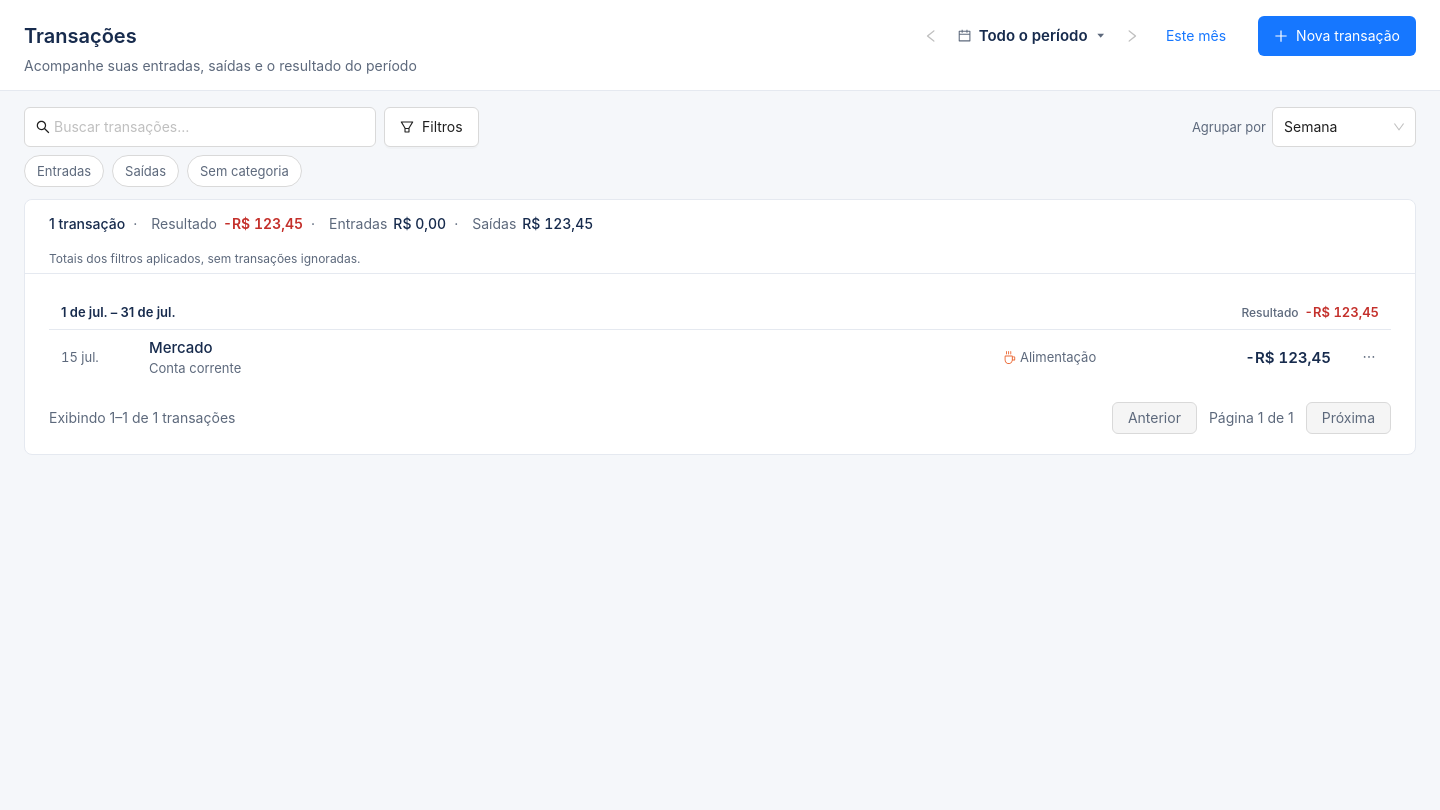
Test case: TransactionsPage › says the recurrence lookup failed instead of 'no recurrence nearby', and offers a retry
This screenshot has width=1440, height=810.
Click the button with aria-label "Ver detalhes de Mercado": (181, 347) [149,338,987,358]
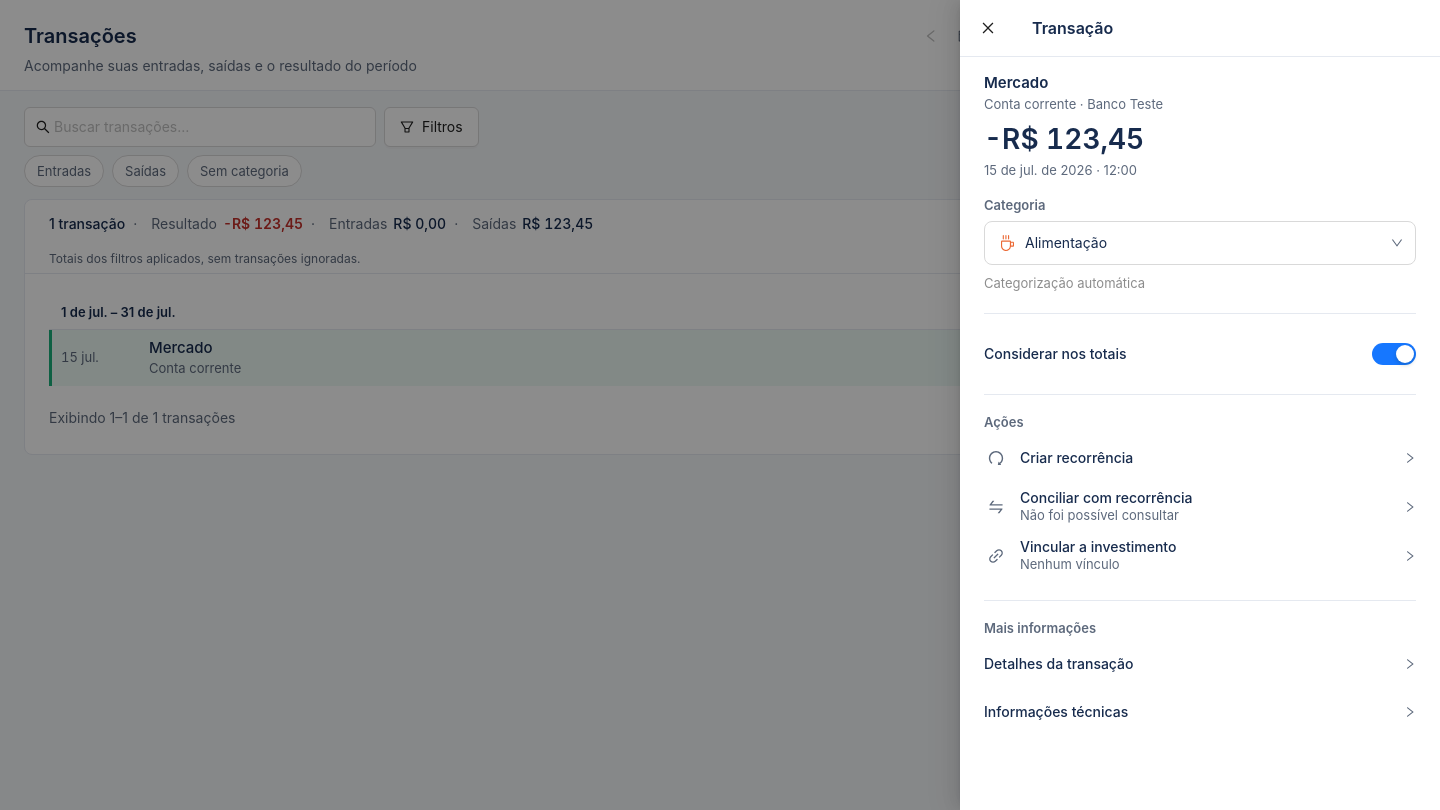
Result: the button "Conciliar com recorrência Não foi possível consultar" is shown
Click the button "Conciliar com recorrência Não foi possível consultar": (1106, 498) [972,482,1428,531]
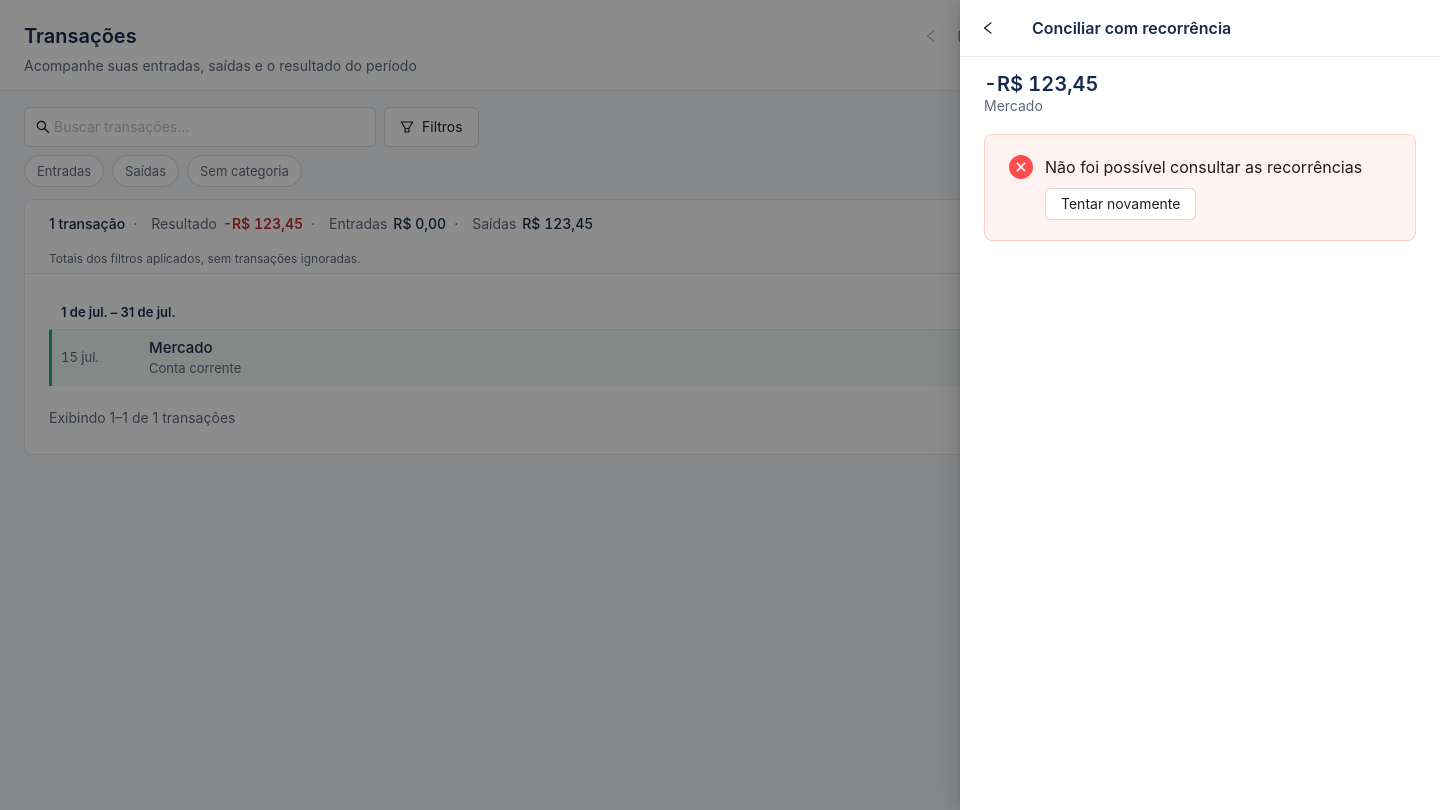
Result: the text "Não foi possível consultar as recorrências" is shown at [1045,155,1391,180]
Result: the button "Tentar novamente" is shown at [1045,188,1196,220]
